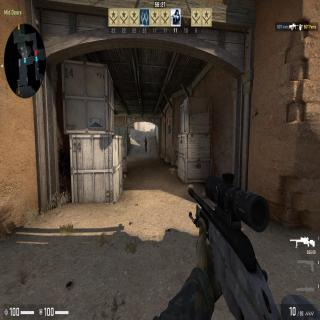T-Body: (144, 136, 148, 152)
T-Head: (145, 136, 147, 139)
